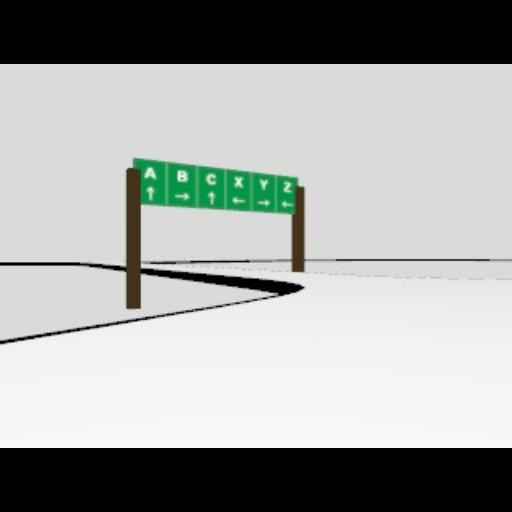A: (142, 166, 156, 178)
B: (176, 170, 188, 180)
C: (204, 172, 216, 186)
Left: (231, 195, 245, 203), (280, 200, 292, 206)
Right: (173, 192, 189, 200), (256, 198, 270, 206)
Straight: (206, 191, 214, 205), (146, 186, 154, 200)
X: (233, 174, 243, 188)
Y: (257, 178, 267, 188)
Z: (281, 180, 291, 192)
